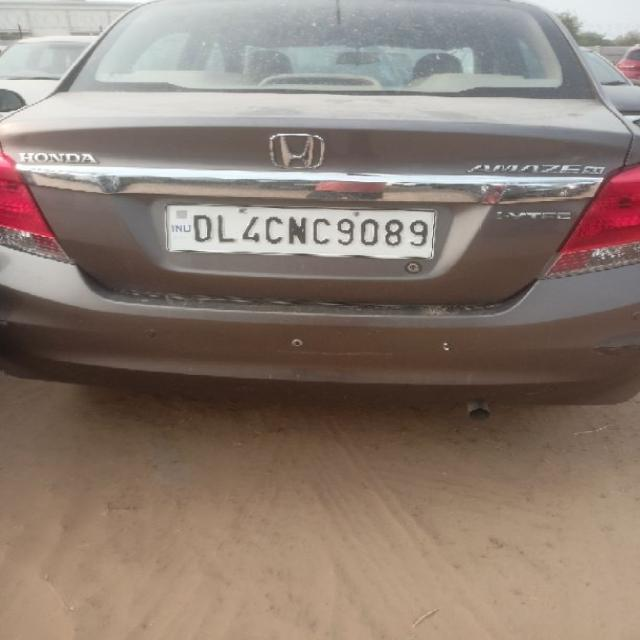license_plate: (163, 202, 437, 260)
